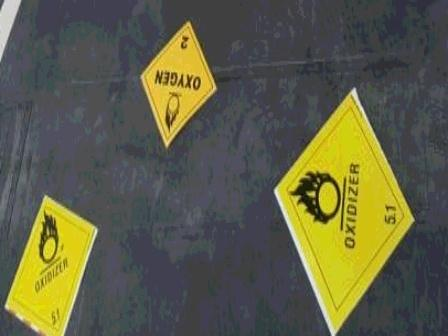oxidizer: (270, 83, 416, 336), (2, 173, 102, 336), (137, 10, 219, 147)
